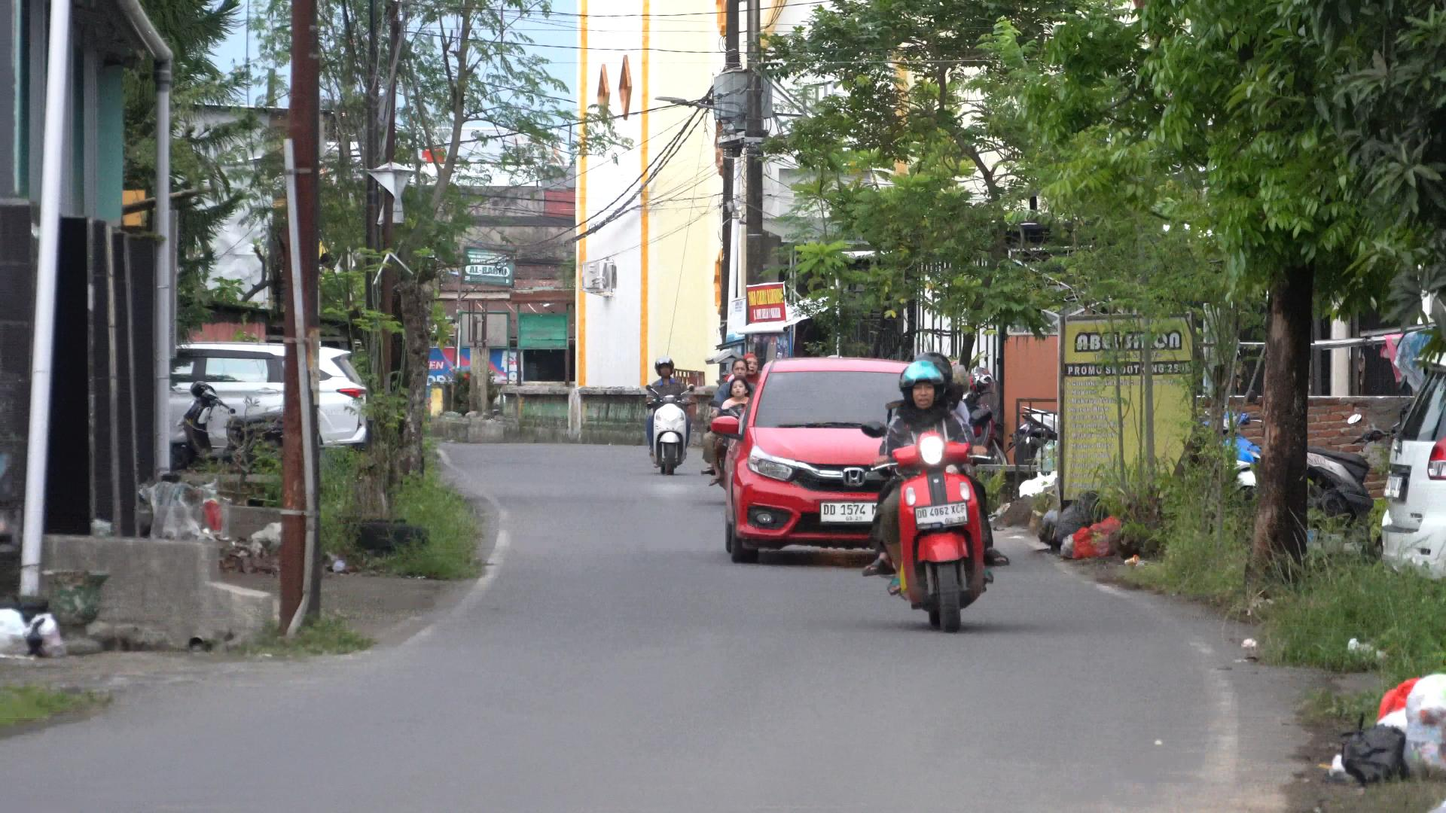number-plate: (913, 503, 969, 525)
